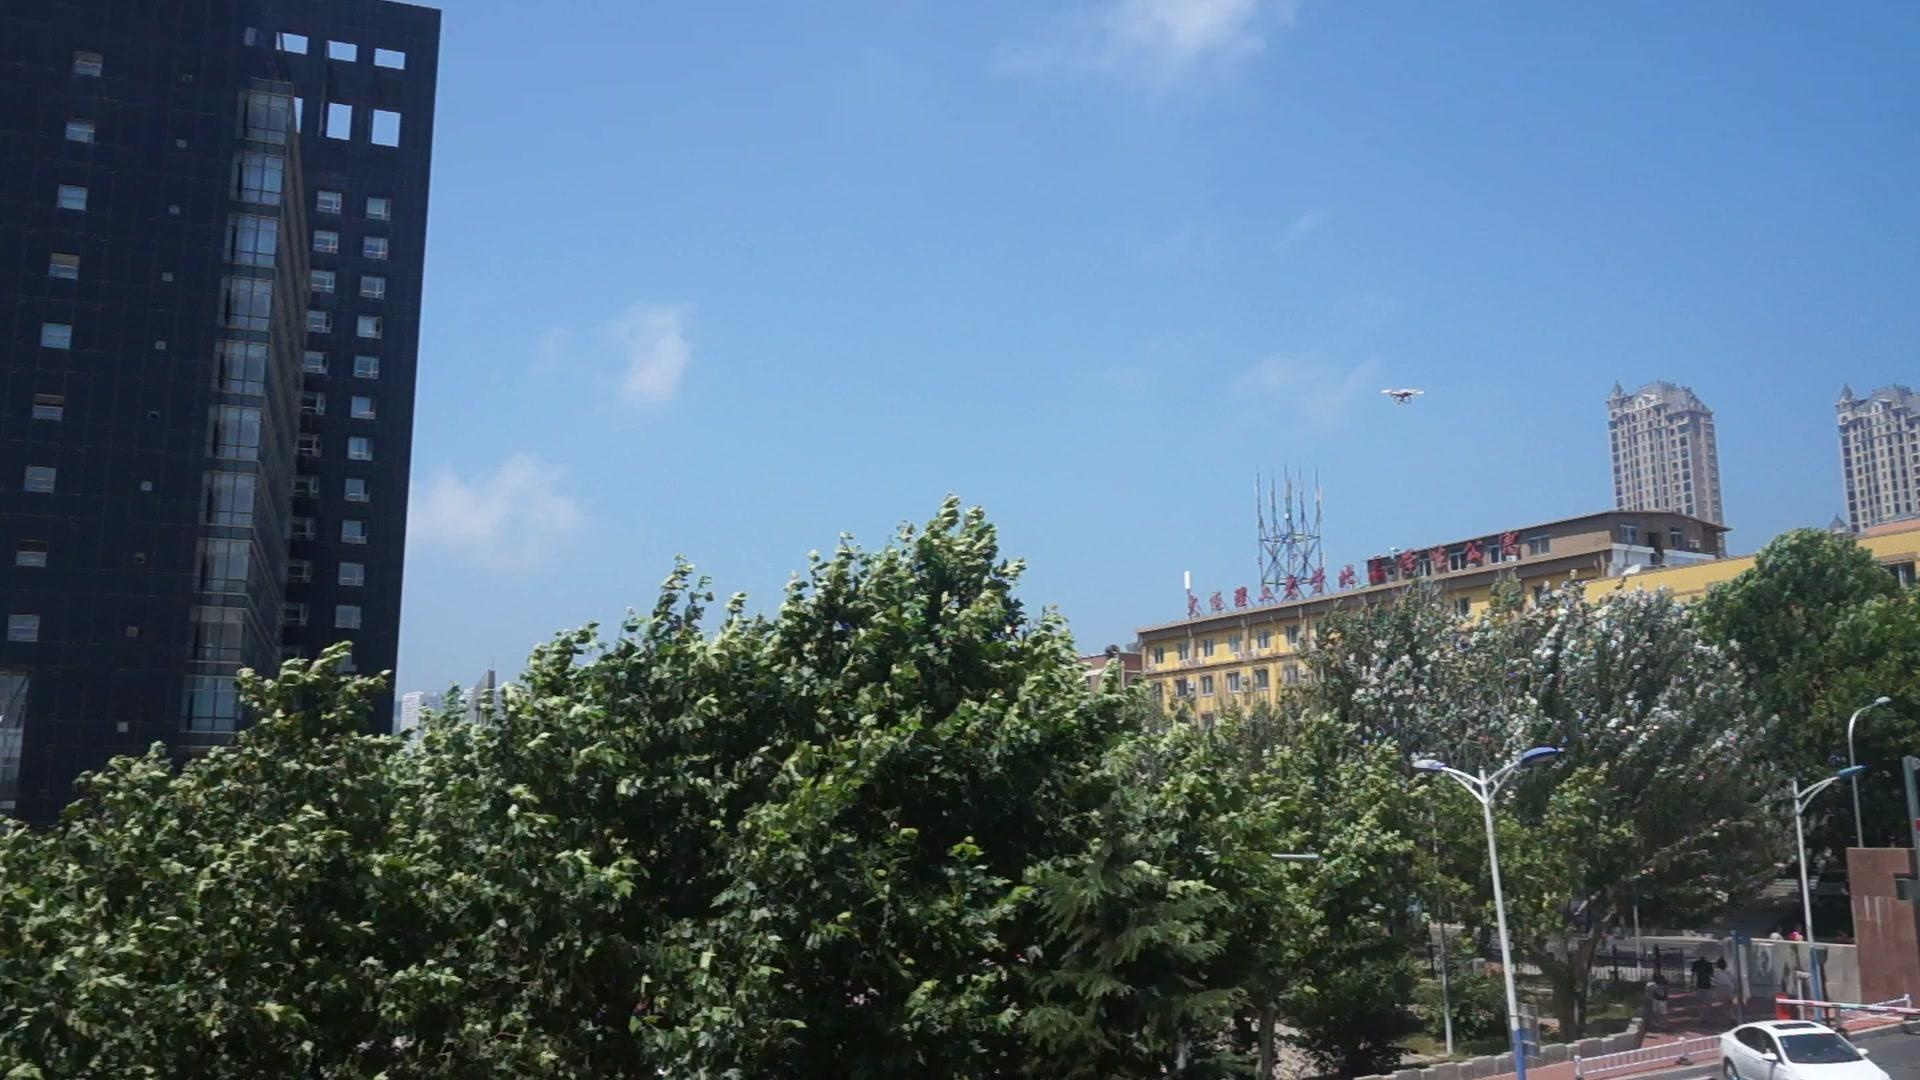UAV: (1382, 389, 1425, 405)
